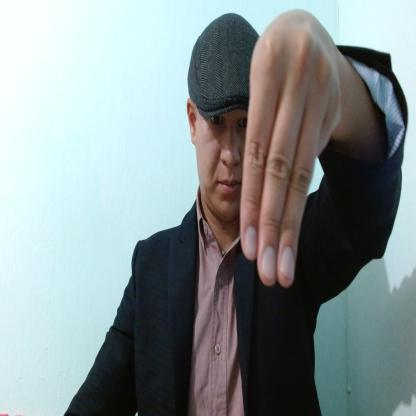M: (240, 10, 341, 291)
